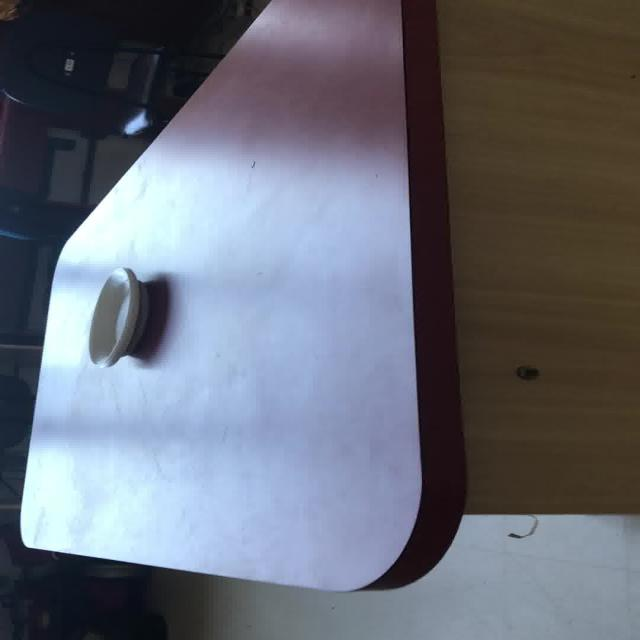plate: (18, 0, 466, 591), (86, 266, 148, 368)
